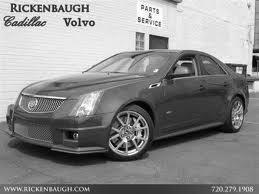car: (5, 49, 255, 164)
